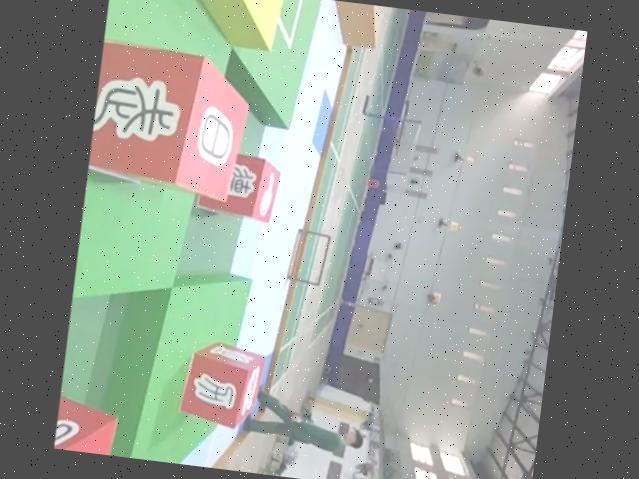R2 Fake: (85, 36, 260, 204), (174, 335, 266, 434), (189, 146, 284, 227), (53, 387, 123, 456)
